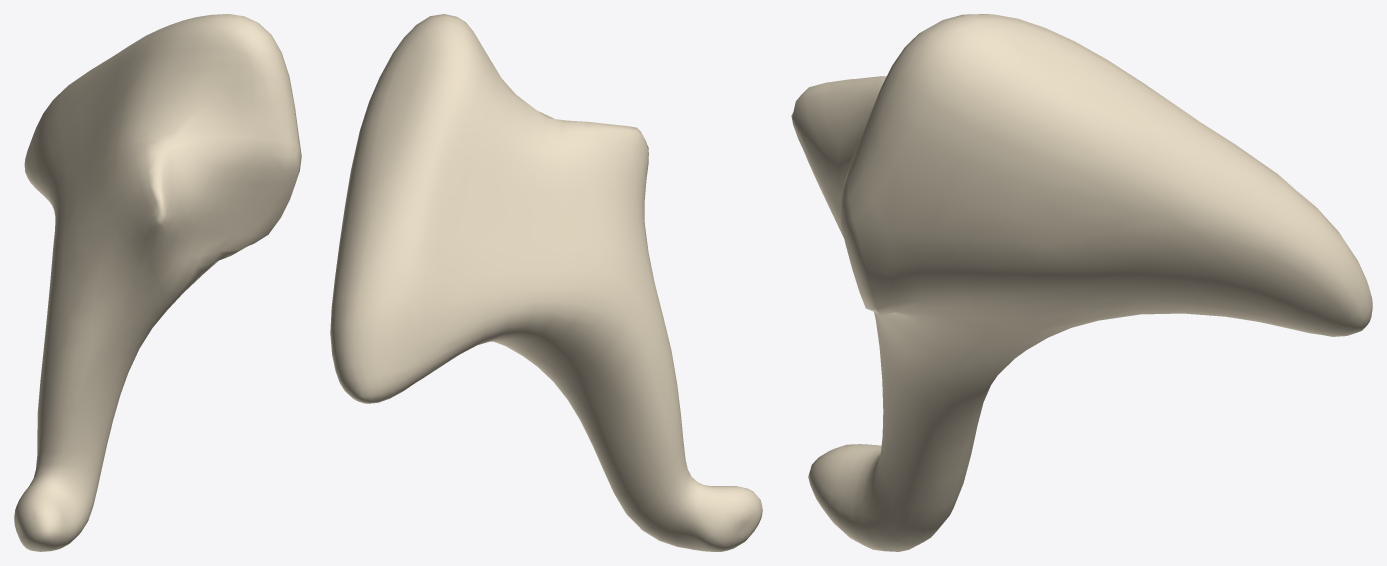
The model's file is incus-l.glb.
3 views of the same model, side by side, from view 1: azimuth 30°, elevation 25°; view 2: azimuth 150°, elevation 25°; view 3: azimuth 270°, elevation 25° (orthographic). The views are drawn at different scales.
Visible parts, largest first — view 1: Incus.l; view 2: Incus.l; view 3: Incus.l.
Boxes of the visible parts, x1,y1,x2,y2 form: Incus.l: (14, 14, 301, 551); Incus.l: (330, 14, 762, 551); Incus.l: (791, 14, 1372, 551).
Size of the model in its own units: 0.00422 by 0.00623 by 0.00489.
